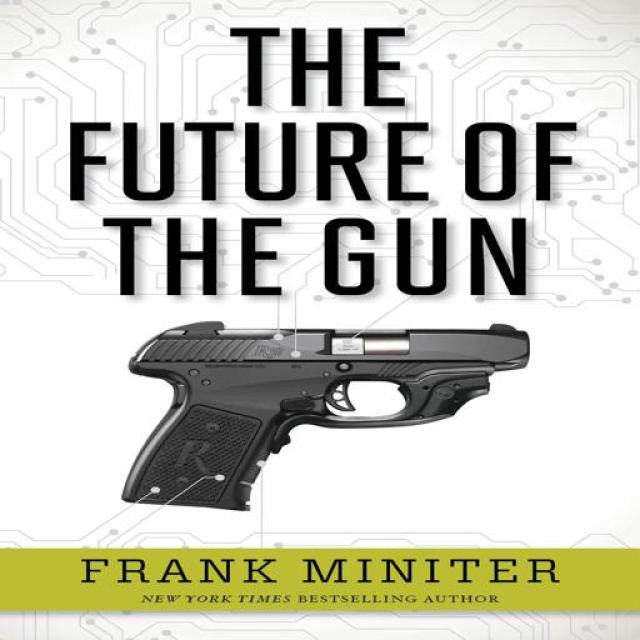pistol: (106, 320, 534, 512)
